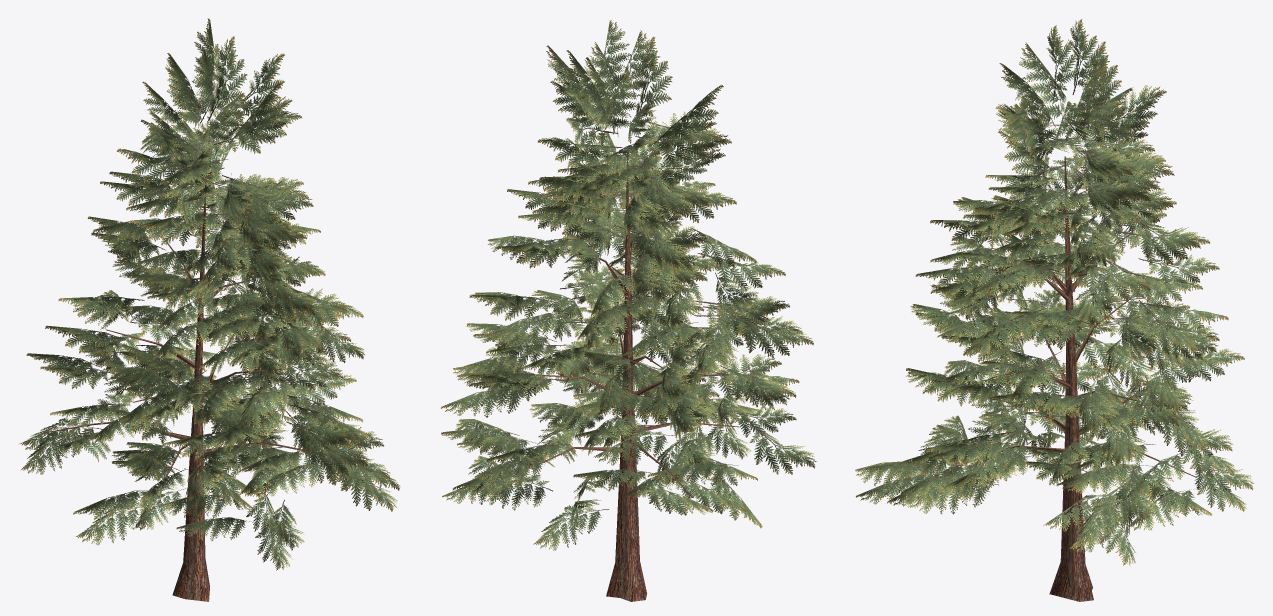
Rendered from Calocedrus_Decurrens_Spring_Young.glb.
3 renders of one model, left to right at view 1: azimuth 30°, elevation 25°; view 2: azimuth 150°, elevation 25°; view 3: azimuth 270°, elevation 25°, orthographic. The views are drawn at different scales.
Visible parts, largest first — view 1: Calocedrus_Decurrens_Spring_Young__LOD3; view 2: Calocedrus_Decurrens_Spring_Young__LOD3; view 3: Calocedrus_Decurrens_Spring_Young__LOD3.
Boxes of the visible parts, x1,y1,x2,y2 form: Calocedrus_Decurrens_Spring_Young__LOD3: [19, 18, 399, 601]; Calocedrus_Decurrens_Spring_Young__LOD3: [441, 20, 816, 601]; Calocedrus_Decurrens_Spring_Young__LOD3: [855, 19, 1254, 601].
Bounding box in the file's own units: 6.16 × 10.16 × 6.42.
2 materials, 2 textured.
